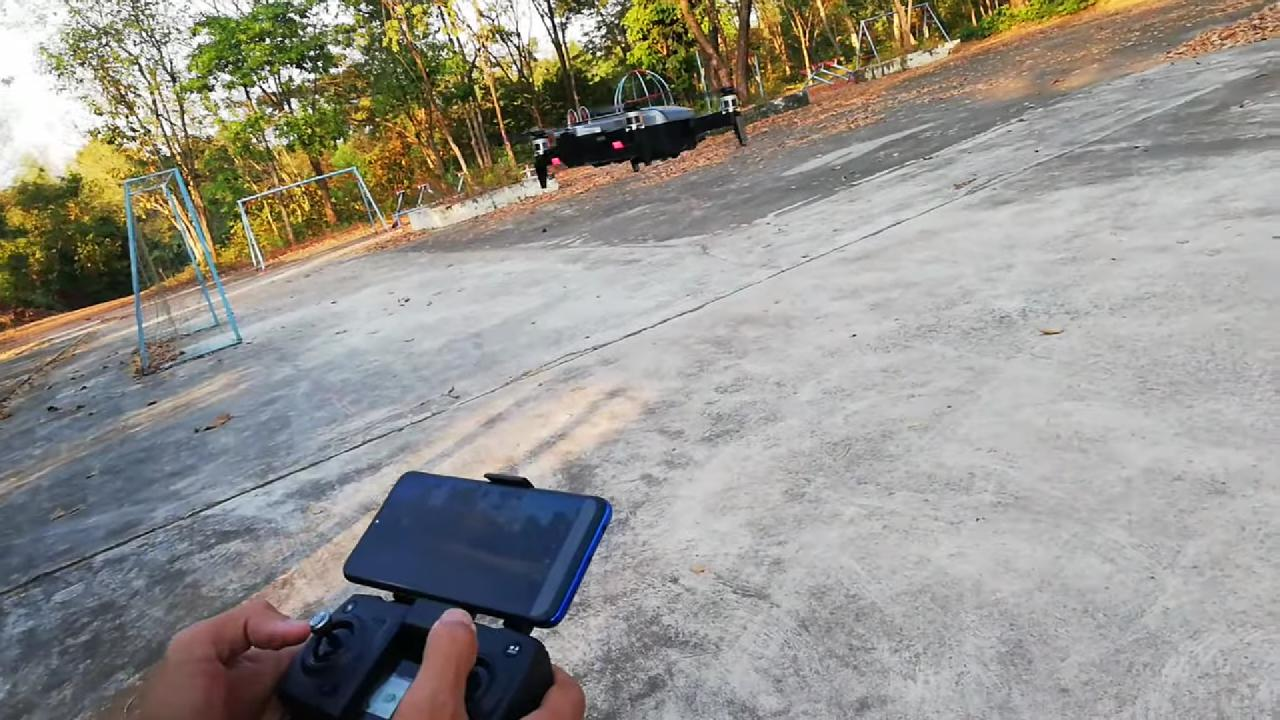Drone: (498, 68, 781, 200)
